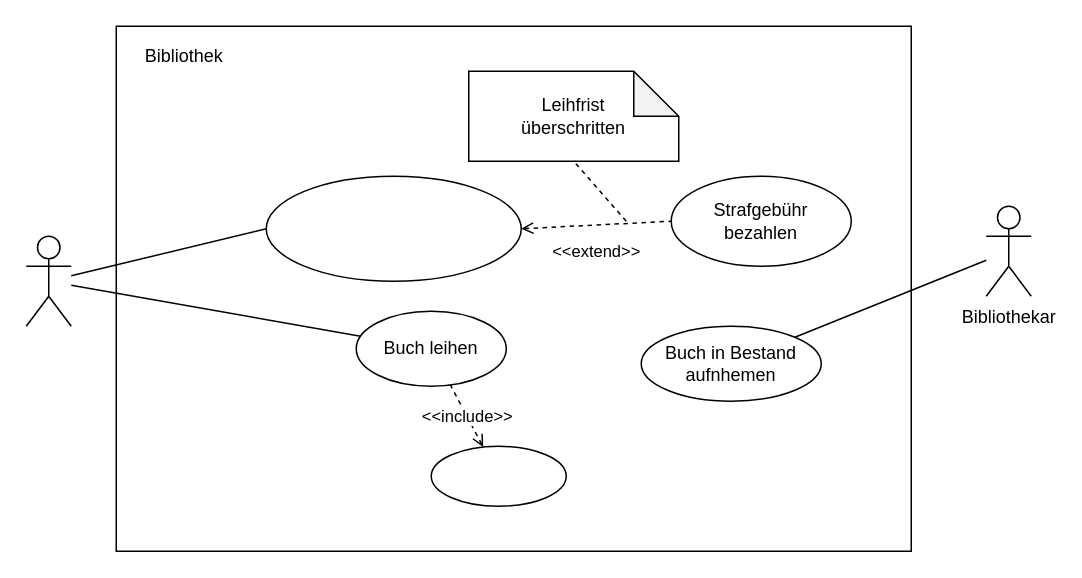
This 1082x578 diagram has some shape labels left out. Each missing label, with the centre of its shape:
"Buch zurückgeben ---------------------------- EP: Gebühr fällig" belongs at (x=393, y=228).
"Leser" belongs at (x=48, y=280).
"suchen" belongs at (x=498, y=475).
